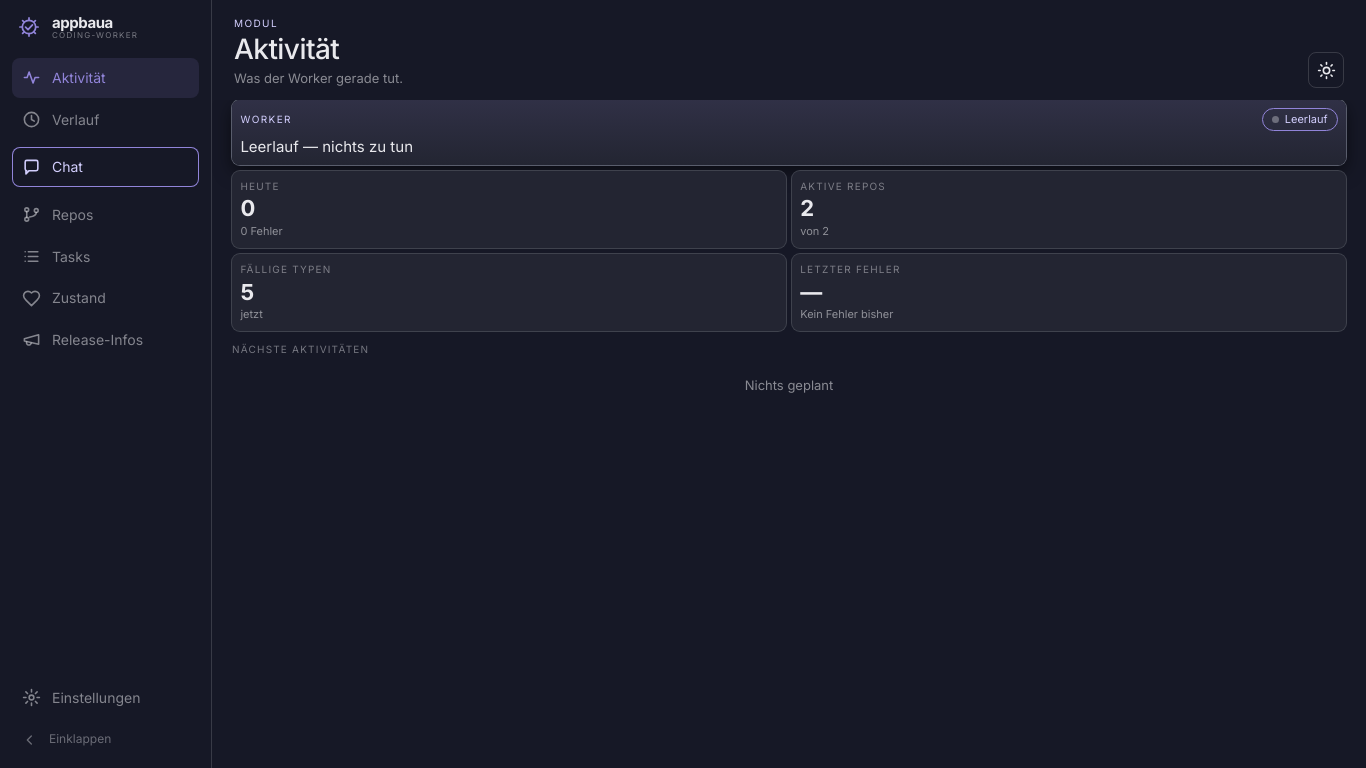
it: Repo-Verwaltung — Auf appbaua umstellen (req-012) › AC: schlägt die Umstellung fehl, steht der konkrete Grund am Eintrag
Expected: the text "Leerlauf — nichts zu tun" is shown, [240,137,413,156]
Click the button "Repos" at (106, 215), box [12,195,199,235]
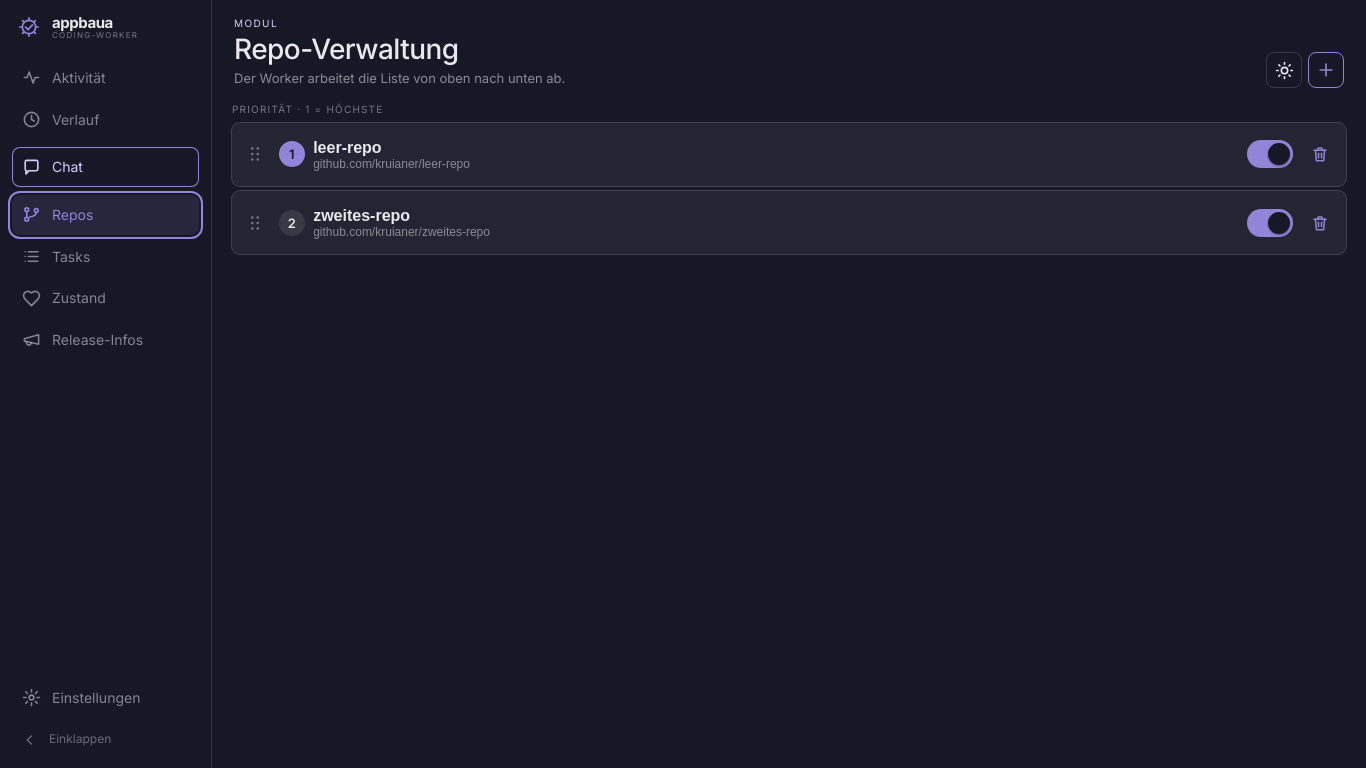
Click the button "leer-repo github.com/kruianer/leer-repo" at (347, 147), box [313,138,1239,171]
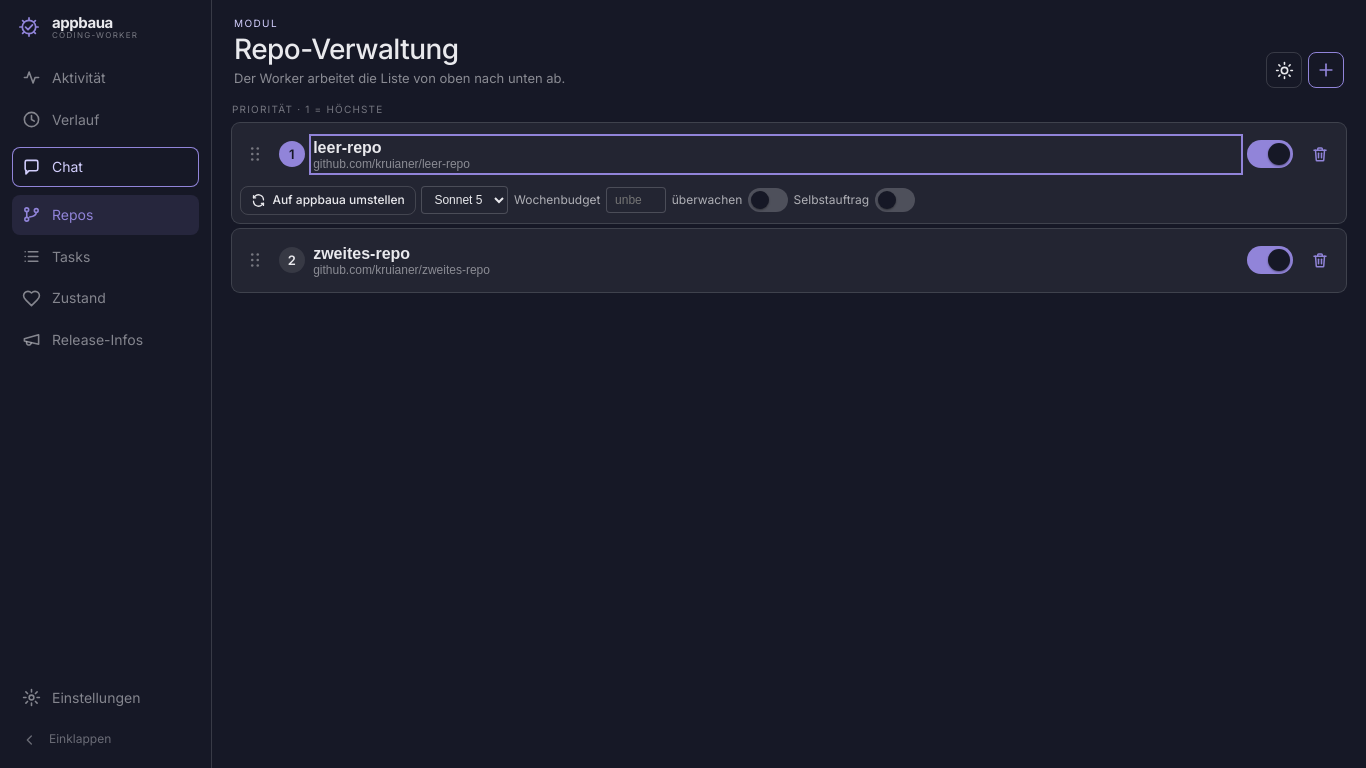
Click the button "Auf appbaua umstellen" at (328, 200), box [240,186,416,215]
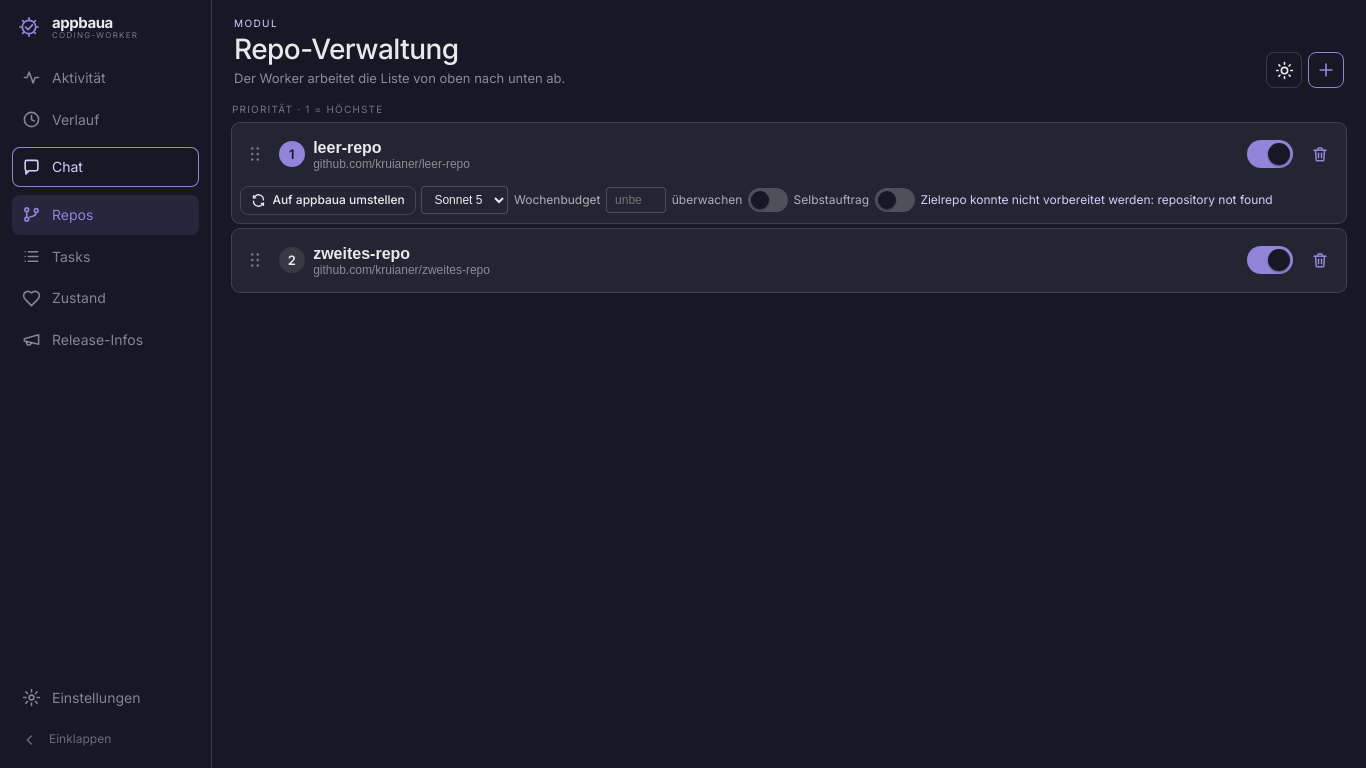
Expected: the text "Zielrepo konnte nicht vorbereitet werden: repository not found" is shown, [920,192,1273,207]
